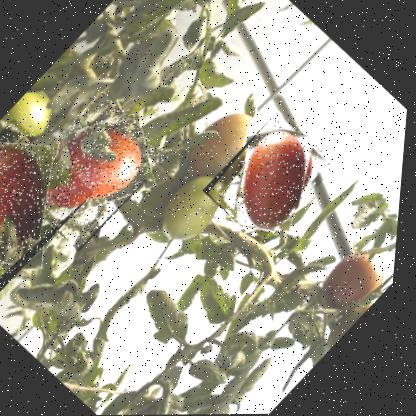tomato: (6, 90, 176, 253), (200, 109, 343, 247), (0, 117, 101, 297)
